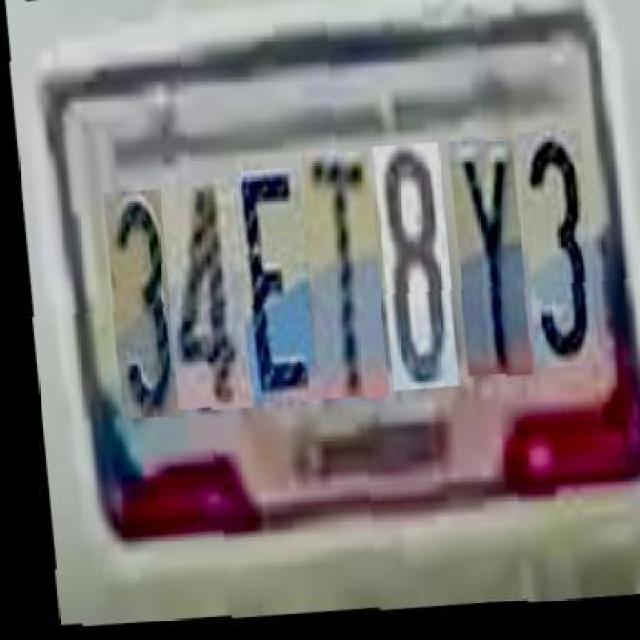3: (510, 128, 592, 368), (97, 192, 174, 420)
4: (153, 178, 244, 412)
8: (367, 142, 450, 390)
e: (226, 168, 311, 404)
t: (295, 150, 380, 401)
y: (442, 138, 523, 378)
